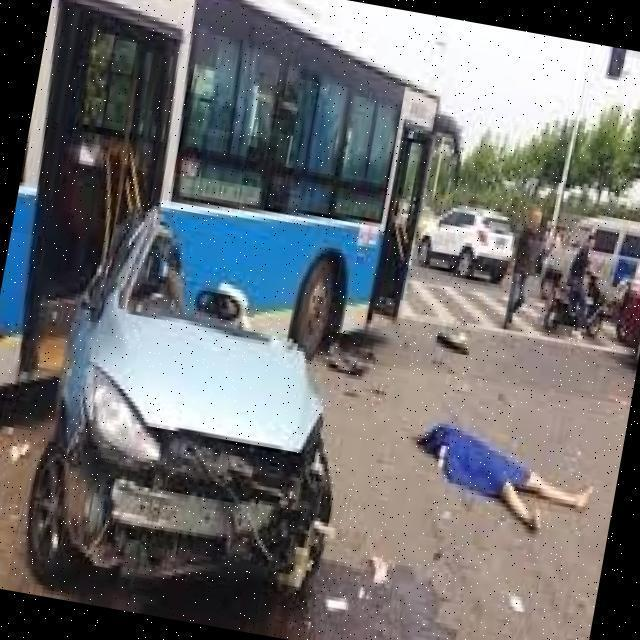accident: (28, 151, 410, 638)
